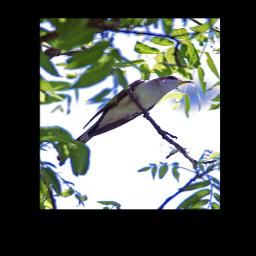Cuckoo: (56, 75, 194, 161)
